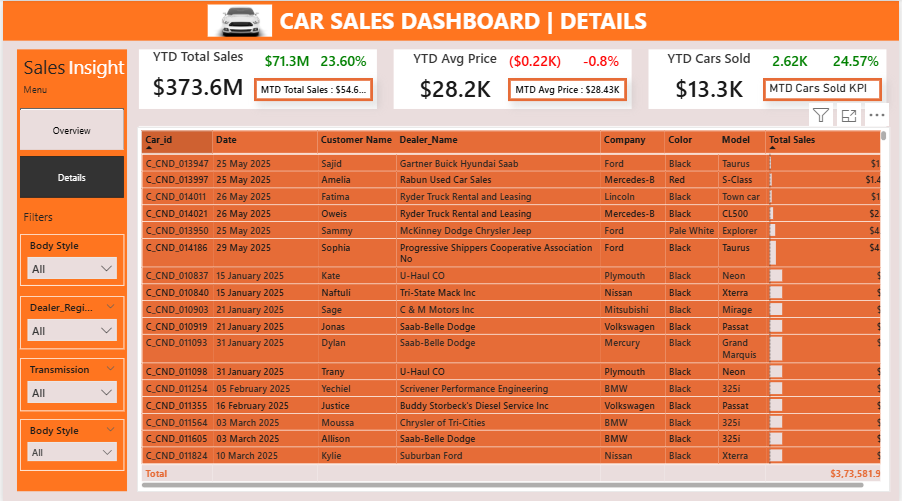

This screenshot's page, from the dashboard's own definition file:
{"tool":"powerbi","page":{"name":"Details","canvas":[1280,720],"ordinal":1},"visuals":[{"type":"card","title":"YTD Total Sales","fields":{"Values":["car_data.YTD Total Sales"]},"box":[191.4,65.7,174.3,87.1],"z":0},{"type":"card","fields":{"Values":["car_data.Sales Different"]},"box":[358.6,70,94.3,32.9],"z":1000},{"type":"card","fields":{"Values":["car_data.YOY Sales Growth"]},"box":[439.4,69.4,93.5,32.6],"z":2000},{"type":"card","fields":{"Values":["car_data.MTD KPI"]},"box":[358.6,110,170,32.9],"z":3000},{"type":"card","title":"YTD Avg Price","fields":{"Values":["car_data.YTD Avg Price"]},"box":[558.6,68.6,174.3,87.1],"z":4000},{"type":"card","fields":{"Values":["car_data.Price Different"]},"box":[712.9,70,94.3,32.9],"z":5000},{"type":"card","fields":{"Values":["car_data.YOY Price Growth"]},"box":[807.1,70,94.3,32.9],"z":6000},{"type":"card","fields":{"Values":["car_data.MTD Avg KPI"]},"box":[721.4,110,170,32.9],"z":7000},{"type":"card","title":"YTD  Cars Sold","fields":{"Values":["car_data.YTD Cars Sold"]},"box":[921.4,68.6,174.3,87.1],"z":8000},{"type":"card","fields":{"Values":["car_data.Car Sold Different"]},"box":[1077.1,70,94.3,32.9],"z":9000},{"type":"card","fields":{"Values":["car_data.YOY Car sold Growth"]},"box":[1171.4,70,94.3,32.9],"z":10000},{"type":"areaChart","box":[1085.7,110,170,32.9],"z":11000},{"type":"textbox","box":[290.6,0,735.6,55.3],"z":12000},{"type":"slicer","fields":{"Values":["car_data.Body Style"]},"box":[24.3,332.9,148.6,74.3],"z":13000},{"type":"slicer","fields":{"Values":["car_data.Body Style"]},"box":[24.3,597.1,148.6,74.3],"z":14000},{"type":"slicer","fields":{"Values":["car_data.Dealer_Region"]},"box":[24.3,421.4,148.6,75.7],"z":15000},{"type":"slicer","fields":{"Values":["car_data.Transmission"]},"box":[24.3,510,148.6,75.7],"z":16000},{"type":"textbox","box":[24.3,292.9,75.7,40],"z":17000},{"type":"tableEx","fields":{"Values":["car_data.Car_id","car_data.Date","car_data.Customer Name","car_data.Dealer_Name","car_data.Company","car_data.Color","car_data.Model","car_data.Total Sales"]},"box":[191.4,180,1075.7,521.4],"z":18000},{"type":"textbox","box":[24.1,69.4,87.9,56.7],"z":19000},{"type":"textbox","box":[87.9,69.4,103.5,56.7],"z":20000},{"type":"textbox","box":[24.3,112.9,64.3,30],"z":21000},{"type":"pageNavigator","box":[24.3,152.9,148.6,128.6],"z":22000},{"type":"pageNavigator","box":[24.3,155.7,148.6,124.3],"z":22001},{"type":"image","box":[191.4,0,294.3,55.7],"z":22002}]}

Visuals, with their boxes in screenshot pixels (x1, y1, x2, y2), scaled from the page's 1280x720 canvas onto the 902x501 screenshot:
"YTD Total Sales" card: box=[135, 46, 258, 106]
card - car_data.Sales Different: box=[253, 49, 319, 72]
card - car_data.YOY Sales Growth: box=[310, 48, 376, 71]
card - car_data.MTD KPI: box=[253, 77, 372, 99]
"YTD Avg Price" card: box=[394, 48, 516, 108]
card - car_data.Price Different: box=[502, 49, 569, 72]
card - car_data.YOY Price Growth: box=[569, 49, 635, 72]
card - car_data.MTD Avg KPI: box=[508, 77, 628, 99]
"YTD  Cars Sold" card: box=[649, 48, 772, 108]
card - car_data.Car Sold Different: box=[759, 49, 825, 72]
card - car_data.YOY Car sold Growth: box=[825, 49, 892, 72]
areaChart: box=[765, 77, 885, 99]
textbox: box=[205, 0, 723, 38]
slicer - car_data.Body Style: box=[17, 232, 122, 283]
slicer - car_data.Body Style: box=[17, 415, 122, 467]
slicer - car_data.Dealer_Region: box=[17, 293, 122, 346]
slicer - car_data.Transmission: box=[17, 355, 122, 408]
textbox: box=[17, 204, 70, 232]
tableEx - car_data.Car_id x car_data.Date: box=[135, 125, 893, 488]
textbox: box=[17, 48, 79, 88]
textbox: box=[62, 48, 135, 88]
textbox: box=[17, 79, 62, 99]
pageNavigator: box=[17, 106, 122, 196]
pageNavigator: box=[17, 108, 122, 195]
image: box=[135, 0, 342, 39]
